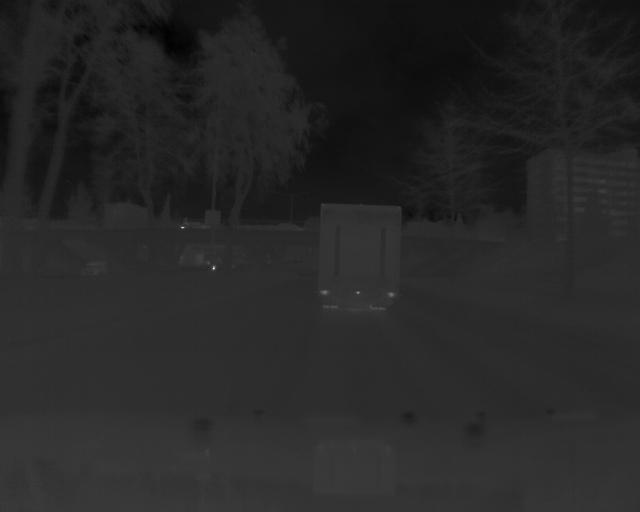car: (315, 199, 403, 320)
